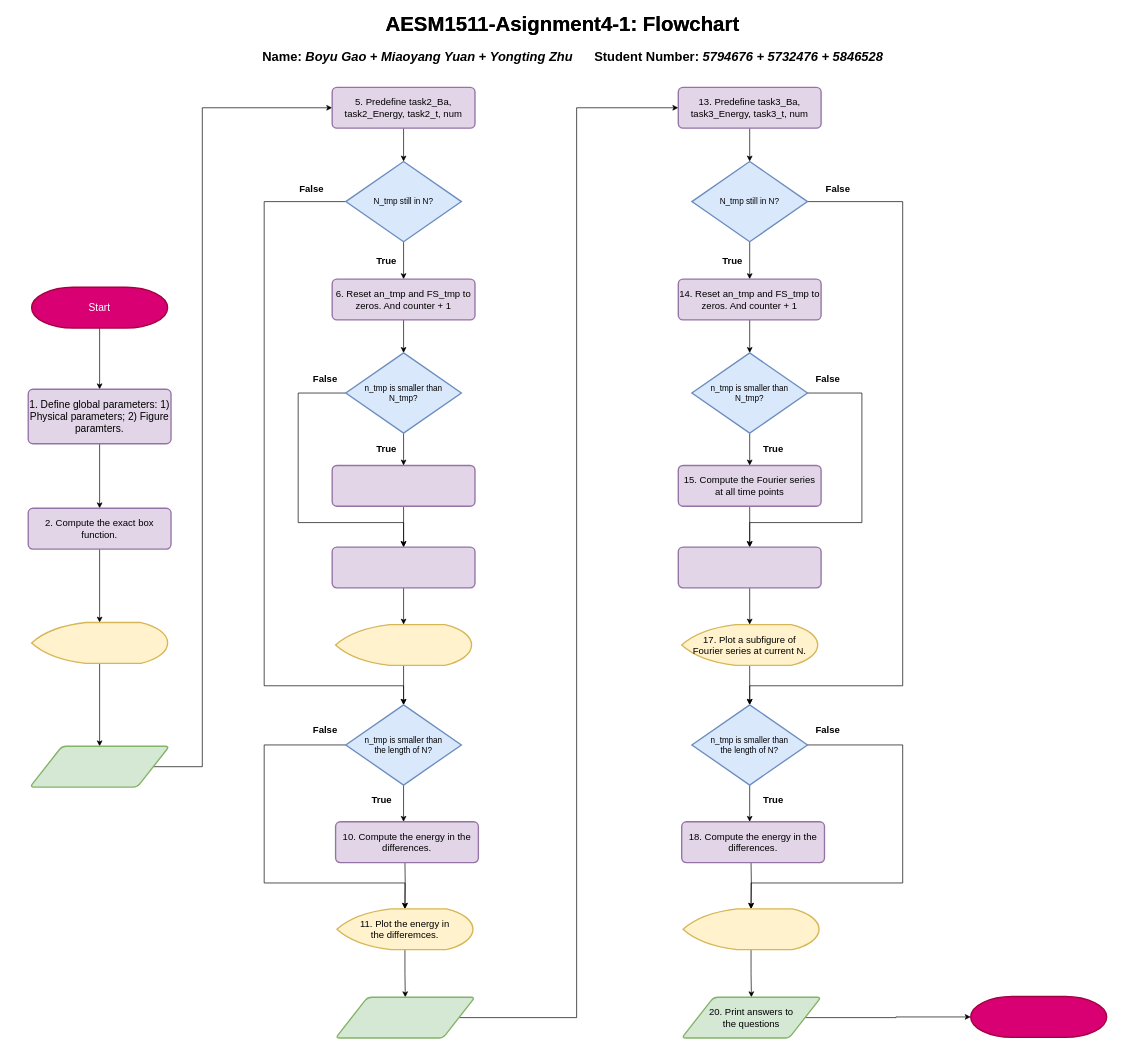
Image size: 1145x1051. Some labels were removed from this diagram. The centre of each missing label's shape, as x and y in pixels:
"12. Print answers to the questions" goes at point 405,1017.
"16. Store the Fourier series at all time points into task3_Ba" goes at point 749,567.
"19. Plot the energy in the differemces." goes at point 750,929.
"3. Plot the exact box function." goes at point 99,643.
"4. Print answers to the questiom" goes at point 99,766.
"7. Compute the Fourier series at all time points" goes at point 403,485.
"8. Store the Fourier series at all time points into task2_Ba" goes at point 403,567.
"9. Plot a subfigure of Fourier series at current N." goes at point 403,645.
"End" goes at point 1038,1017.
